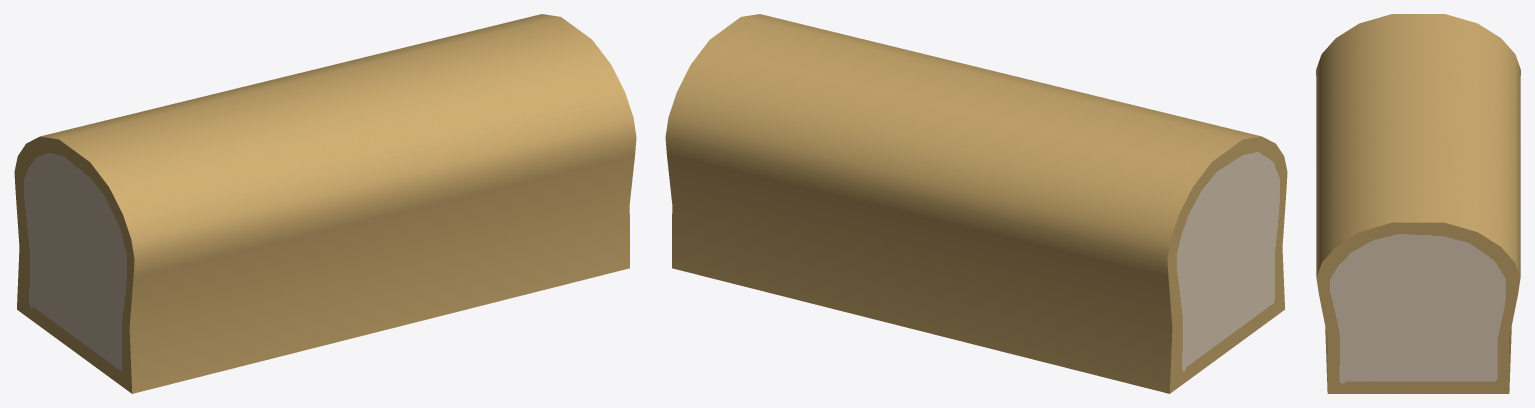
File: Bread.fbx
3 renders of one model, left to right at view 1: azimuth 30°, elevation 25°; view 2: azimuth 150°, elevation 25°; view 3: azimuth 270°, elevation 25°, orthographic. The views are drawn at different scales.
Visible parts, largest first — view 1: Bread; view 2: Bread; view 3: Bread.
Boxes of the visible parts, x1,y1,x2,y2 form: Bread: [14, 14, 636, 393]; Bread: [665, 14, 1287, 393]; Bread: [1316, 14, 1520, 393].
Bounding box in the file's own units: 5.39 × 2.06 × 2.23.
Materials: 1 (1 with a texture image).
